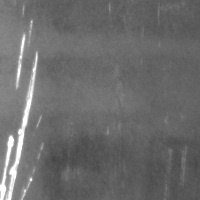scratches: (0, 52, 42, 199), (10, 29, 31, 93)
